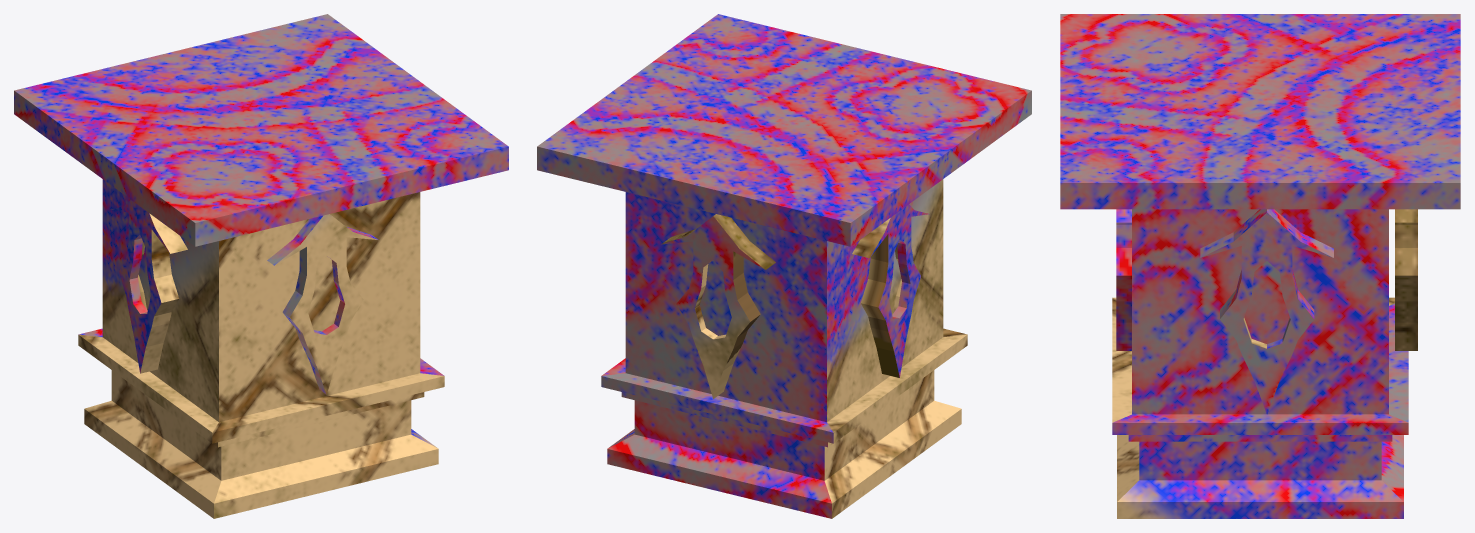
Rendered from SM_Columna3Top.fbx.
The picture shows the model from 3 angles, left to right: view 1: azimuth 30°, elevation 25°; view 2: azimuth 150°, elevation 25°; view 3: azimuth 270°, elevation 25°; orthographic projection. The views are drawn at different scales.
Parts seen in each view (by area): view 1: SM_Columna3Top; view 2: SM_Columna3Top; view 3: SM_Columna3Top.
Part boxes in pixels (x1=…): SM_Columna3Top: x1=14, y1=14, x2=508, y2=518; SM_Columna3Top: x1=537, y1=14, x2=1031, y2=518; SM_Columna3Top: x1=1060, y1=14, x2=1460, y2=518.
Bounding box in the file's own units: 101 × 100 × 101.
